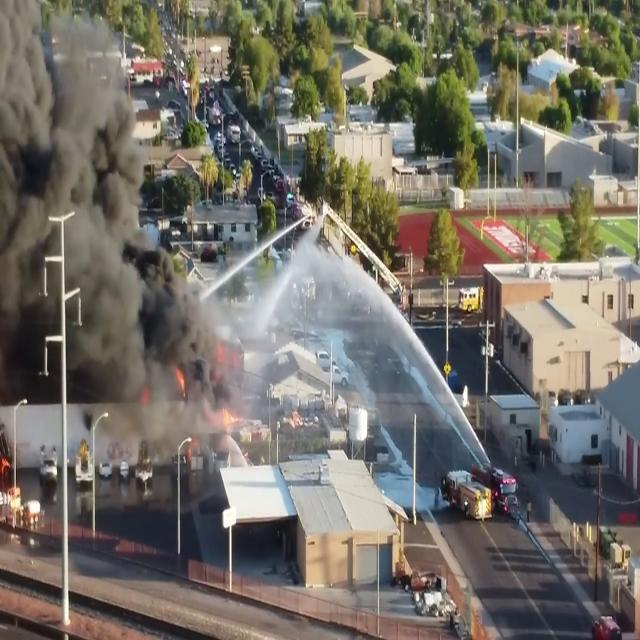Smoke: (1, 14, 261, 441)
